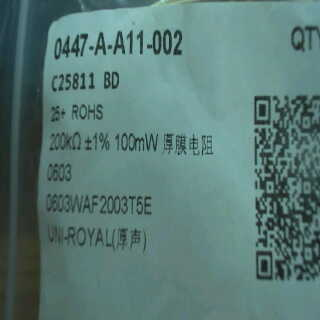200kR: (48, 129, 83, 154)
